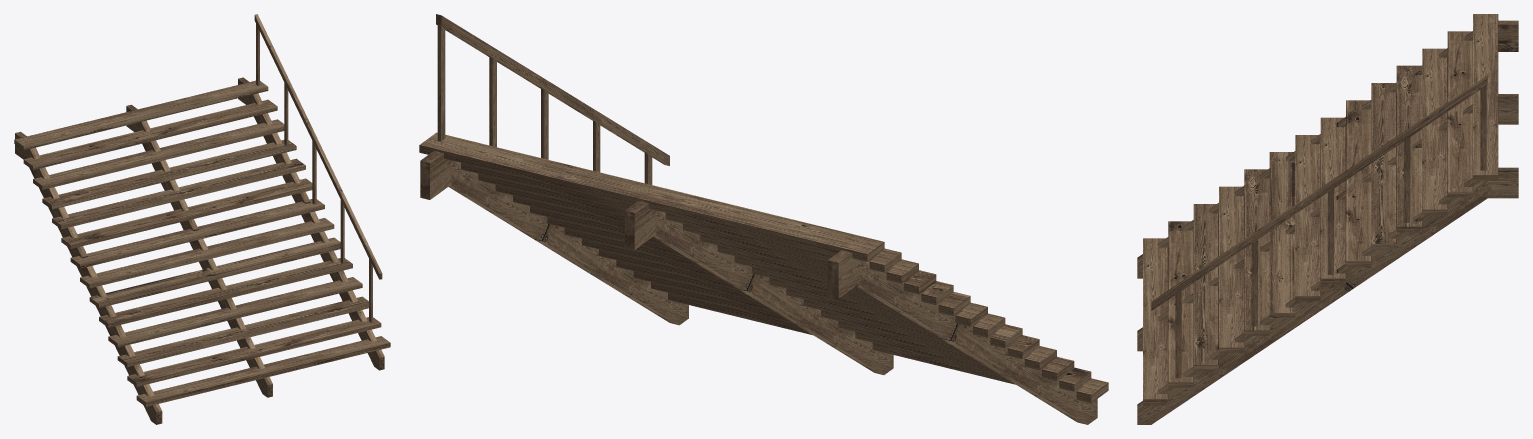
The model's file is wideStaircaseBanisterR.dae.
The picture shows the model from 3 angles, left to right: view 1: azimuth 30°, elevation 25°; view 2: azimuth 150°, elevation 25°; view 3: azimuth 270°, elevation 25°; orthographic projection. The views are drawn at different scales.
Visible parts, largest first — view 1: wideStaircaseBanisterR; view 2: wideStaircaseBanisterR; view 3: wideStaircaseBanisterR.
Boxes of the visible parts, x1,y1,x2,y2 form: wideStaircaseBanisterR: (14, 14, 390, 424); wideStaircaseBanisterR: (419, 14, 1108, 424); wideStaircaseBanisterR: (1137, 14, 1518, 424).
Bounding box in the file's own units: 4 × 4.05 × 4.01.
Materials: 1 (1 with a texture image).
